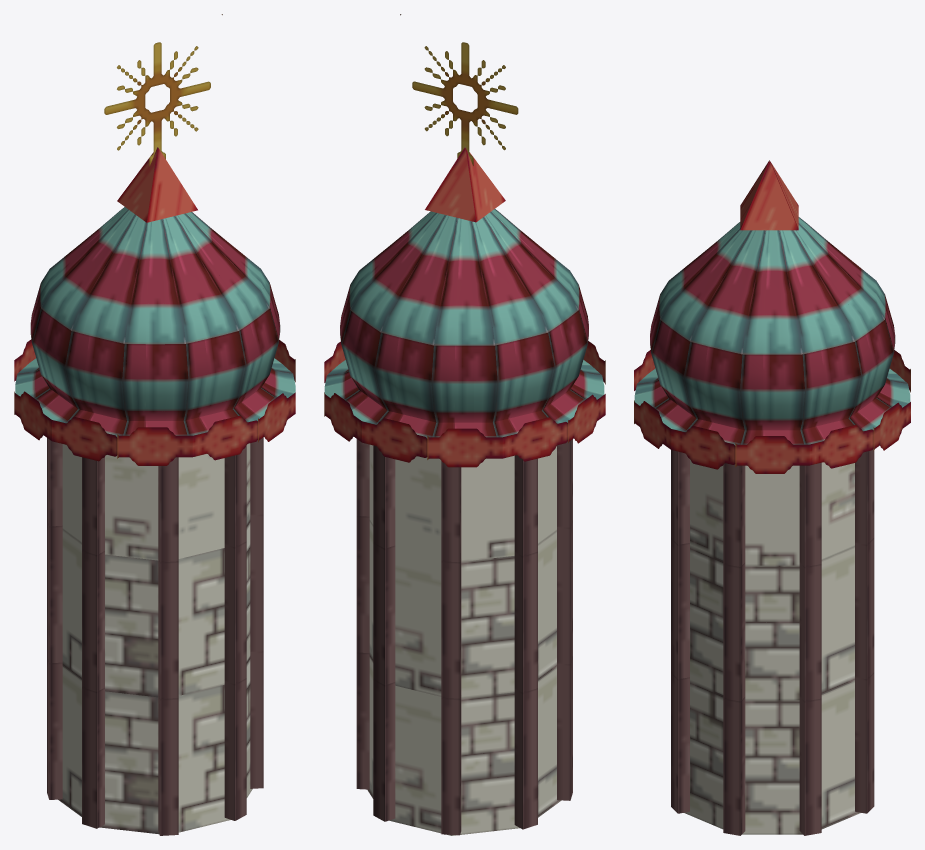
File: zwiebelturm_stone_small.fbx
The picture shows the model from 3 angles, left to right: view 1: azimuth 30°, elevation 25°; view 2: azimuth 150°, elevation 25°; view 3: azimuth 270°, elevation 25°; orthographic projection.
Visible parts, largest first — view 1: zwiebelturm_stone_small; view 2: zwiebelturm_stone_small; view 3: zwiebelturm_stone_small.
Part boxes in pixels (x1,y1,x2,y2): zwiebelturm_stone_small: (14,14,295,835); zwiebelturm_stone_small: (324,14,605,835); zwiebelturm_stone_small: (634,160,910,835).
Bounding box in the file's own units: 187 × 559 × 187.
